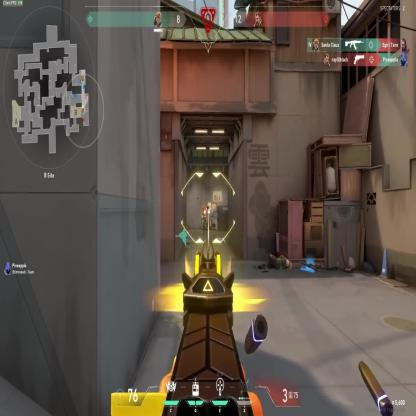enemy: (200, 207, 206, 237)
enemy_head: (202, 207, 204, 210)
